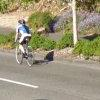Bicycle: (12, 33, 36, 70)
